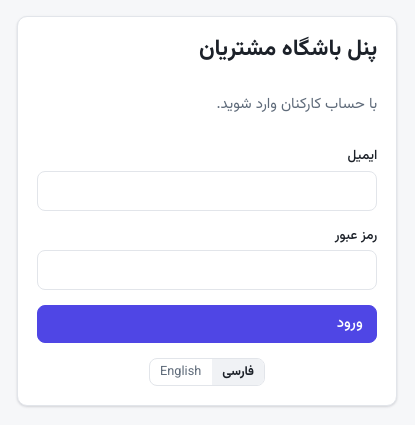
Scenario: LoginPage › is in Persian, right to left, until someone picks English
Expected: the button "ورود" is shown, [37, 305, 377, 343]
Click the button "English" at (181, 372), box [150, 359, 212, 385]
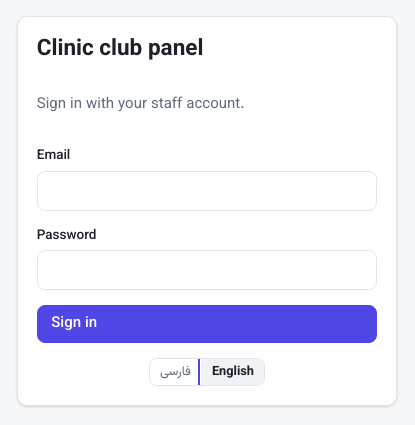
Expected: the button "Sign in" is shown, [37, 305, 377, 343]
